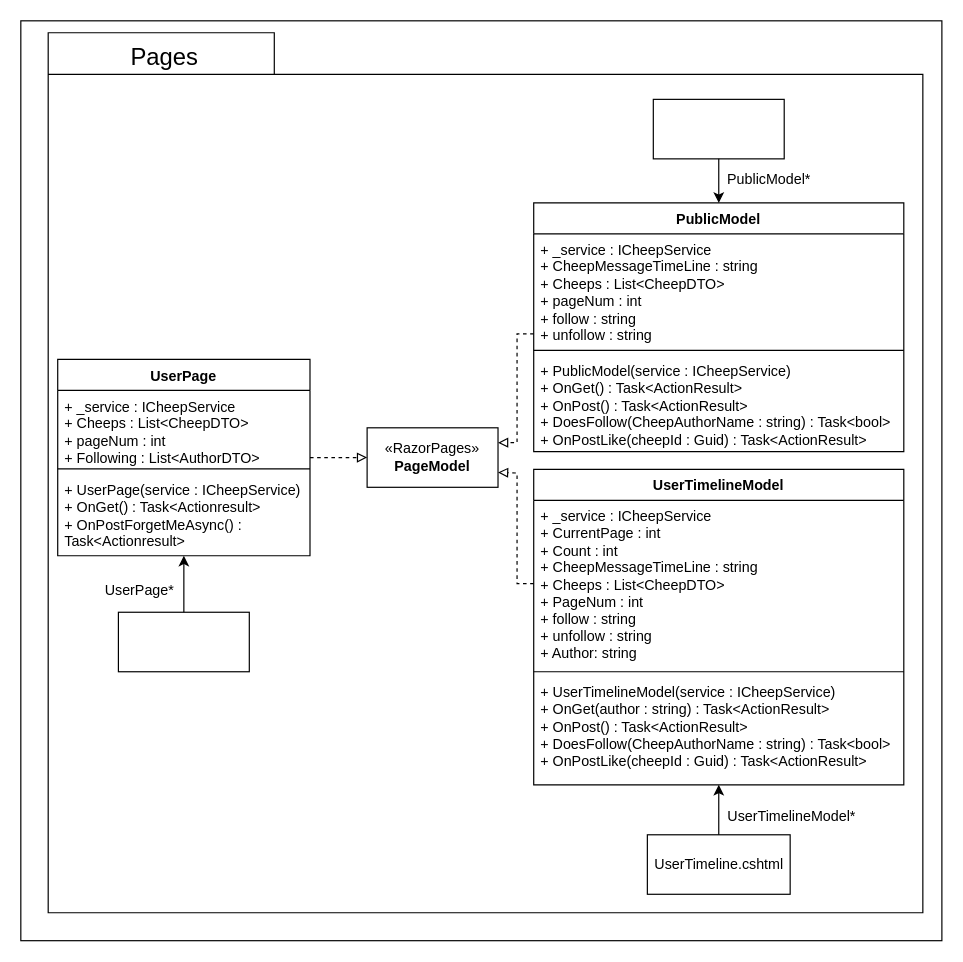
This 963x962 diagram has some shape labels left out. The centre of each missing label's shape, as x and y in pixels:
Public.cshtml: the point at 718,128
UserPage.cshtml: the point at 183,641
